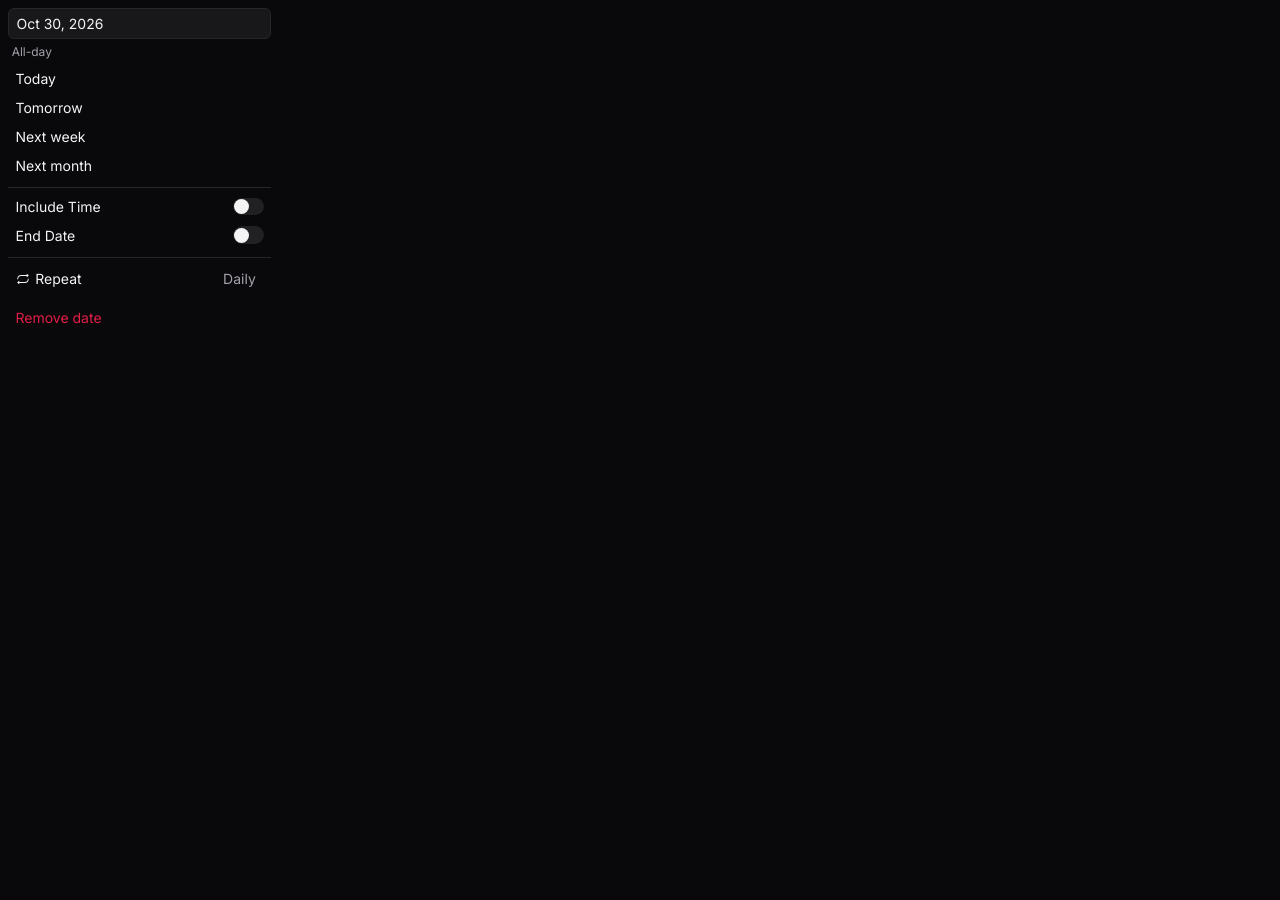
Test: DatePicker › test remove date asks first when the recurring task has history
Later steps or results of the test are not shown.
Click the button "Remove date" at (59, 317), box [8, 303, 271, 331]
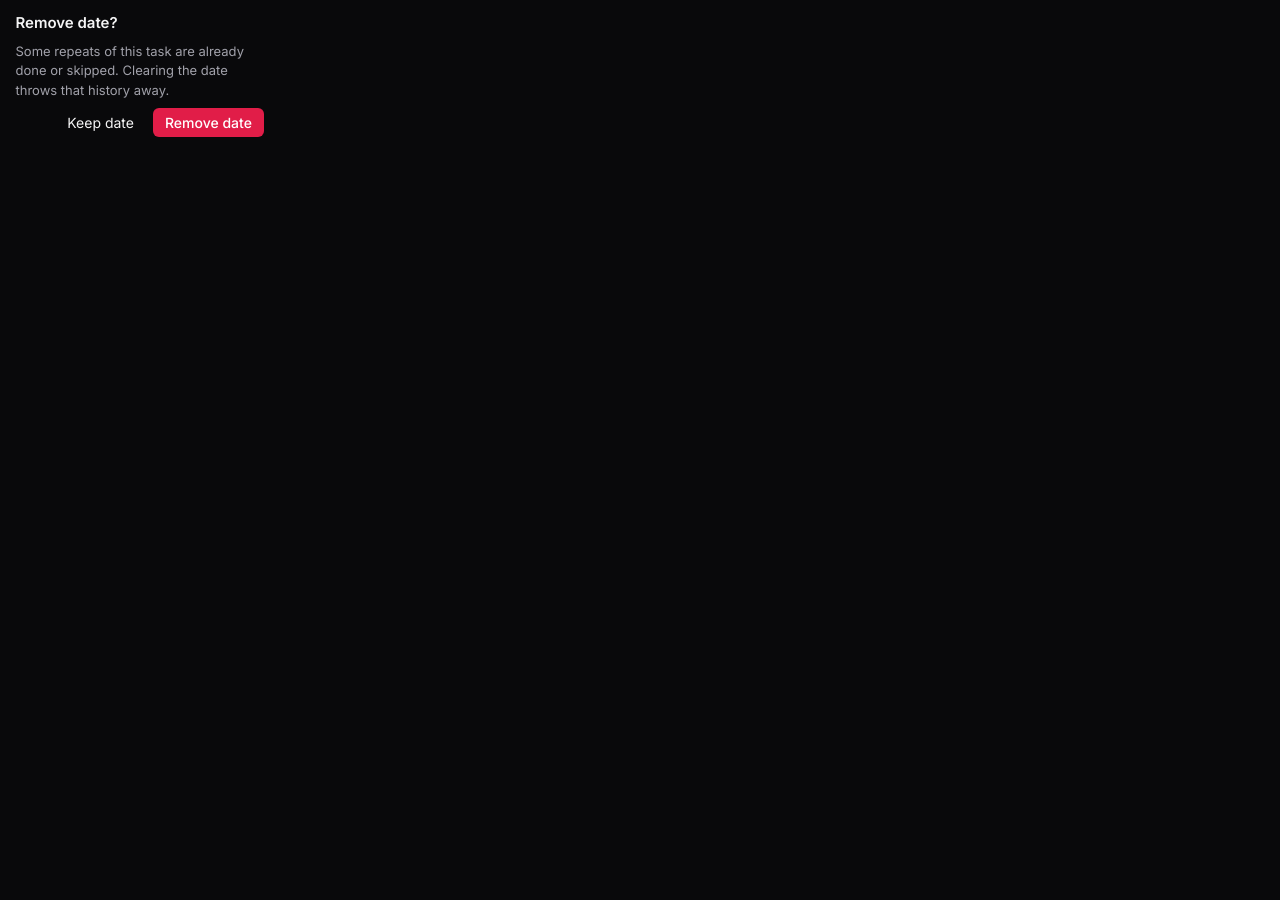
Expected: the dialog "Remove date?" shows "Some repeats of this task are already done or skipped. Clearing the date throws that history away.", [16, 43, 244, 98]
